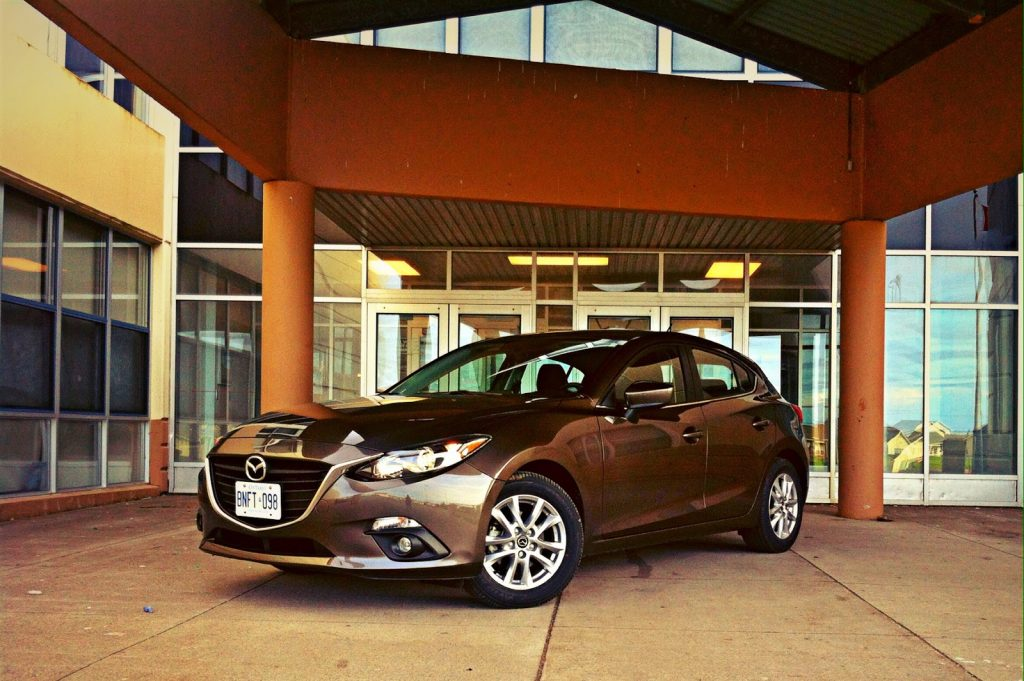Mazda3 Hatchback: (195, 330, 810, 609)
